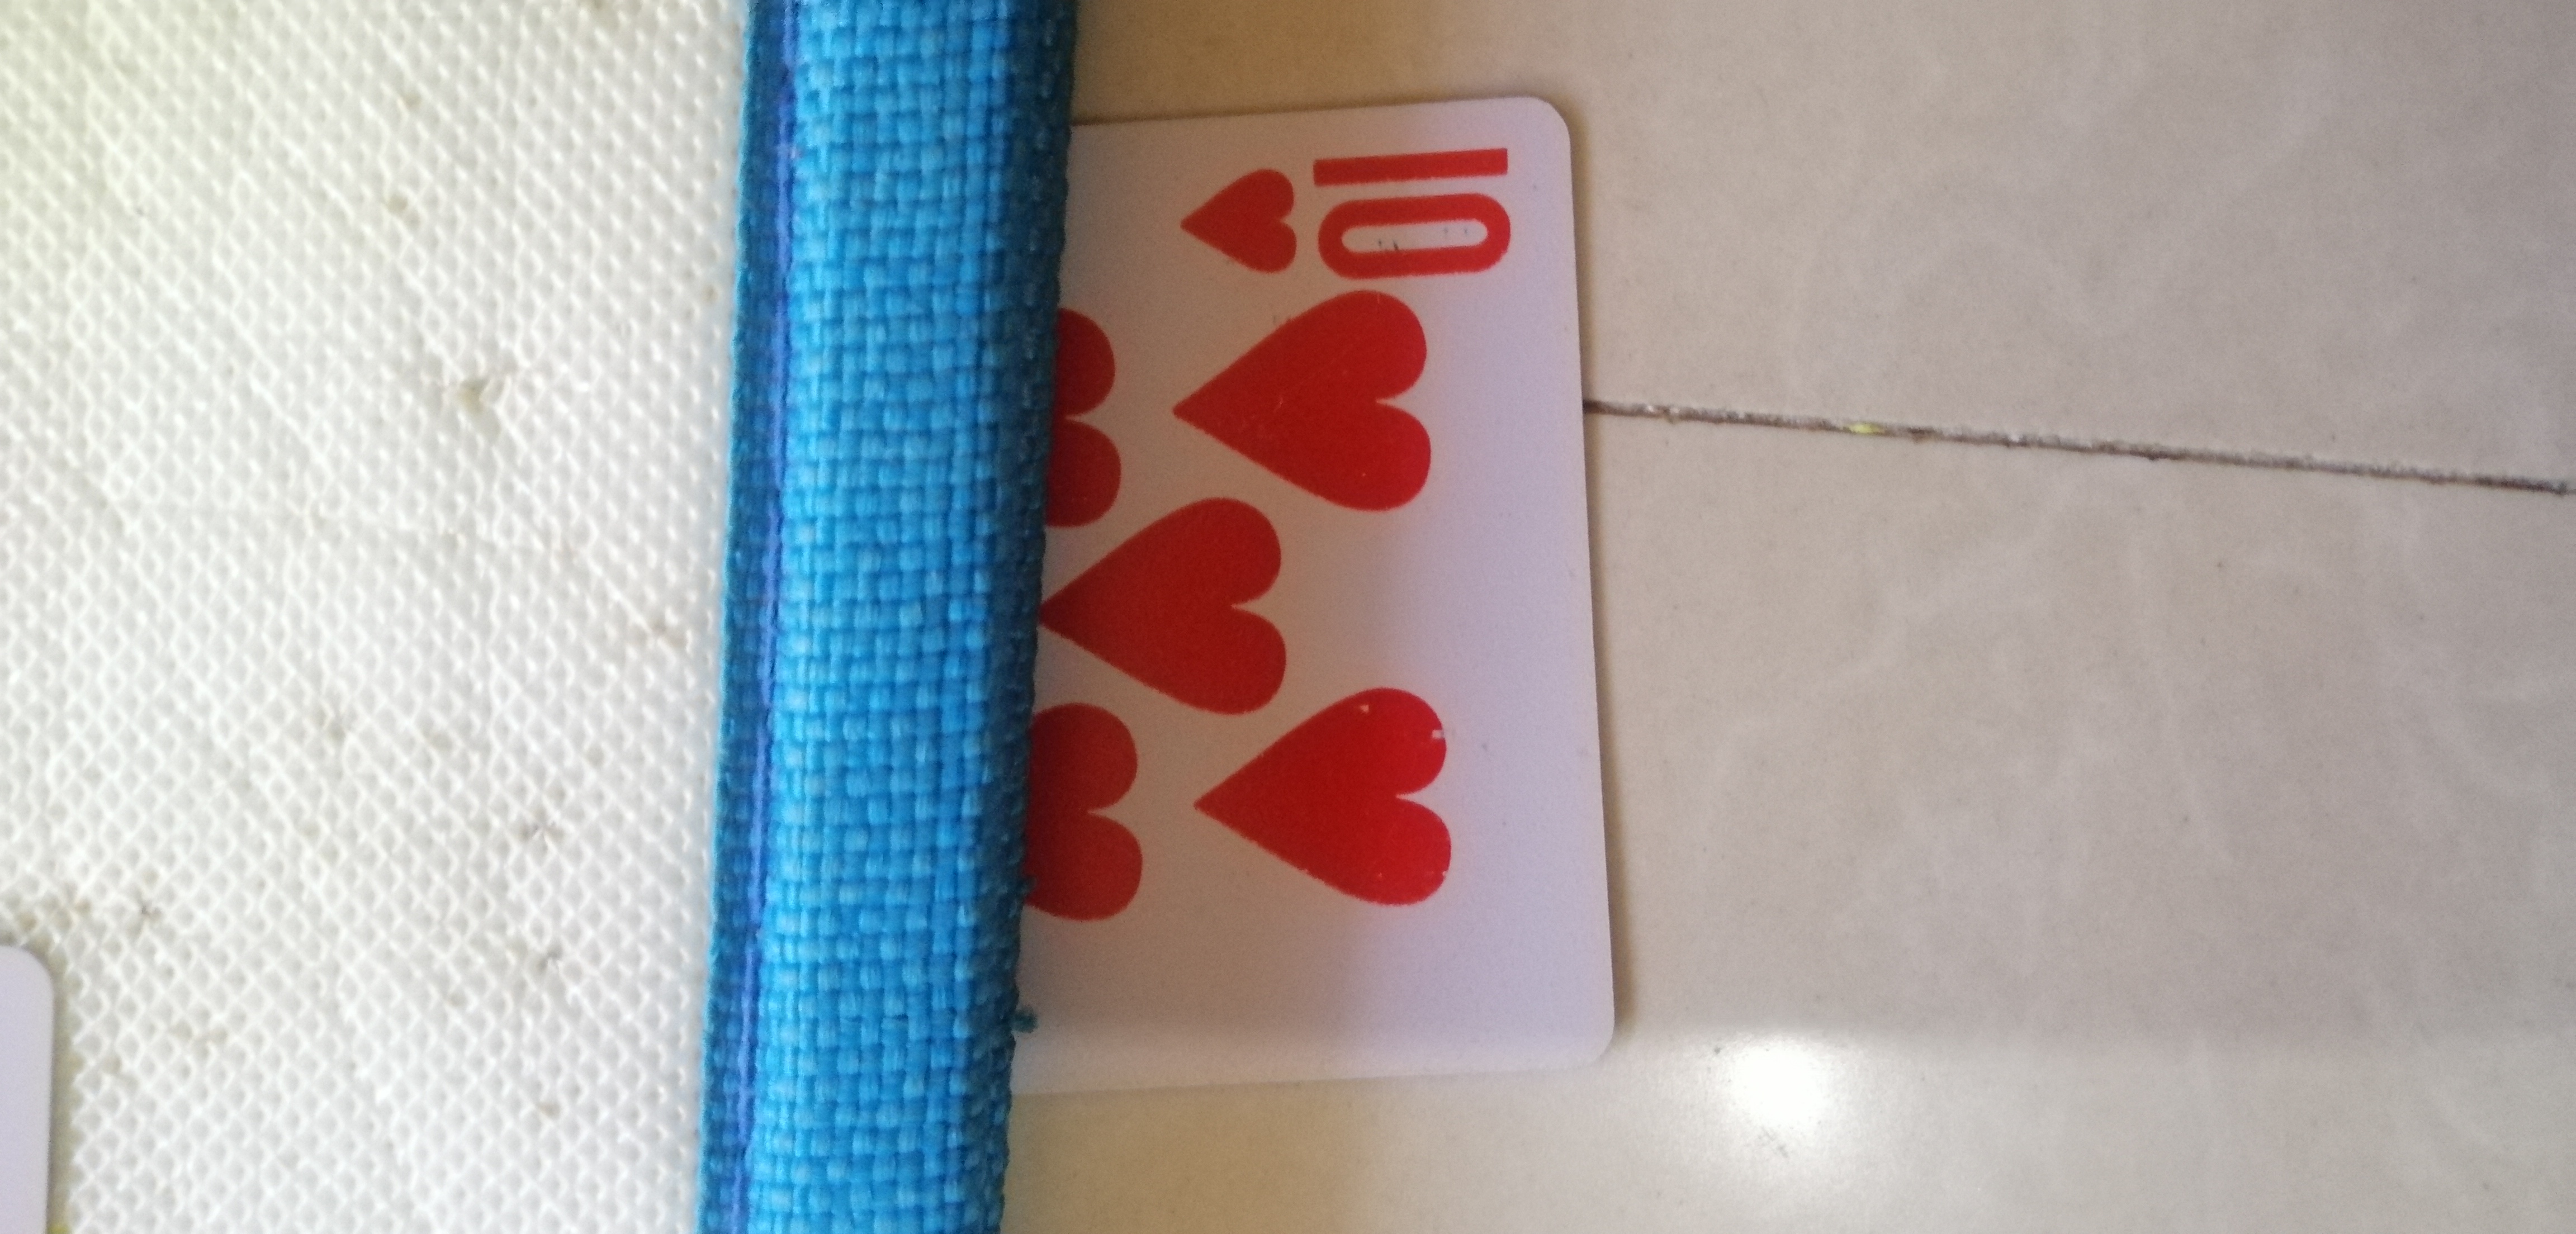ten: (879, 97, 1656, 1076)
